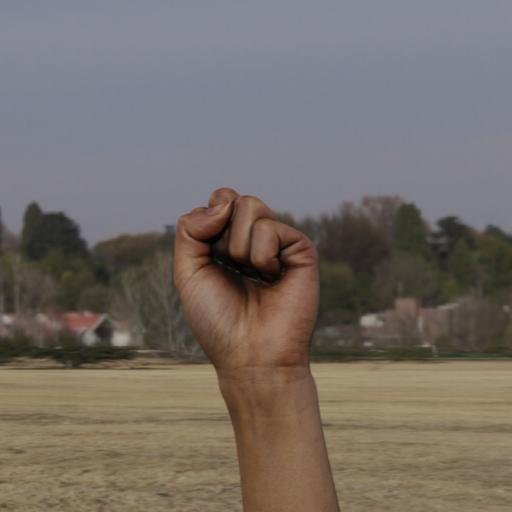S: (169, 184, 323, 362)
